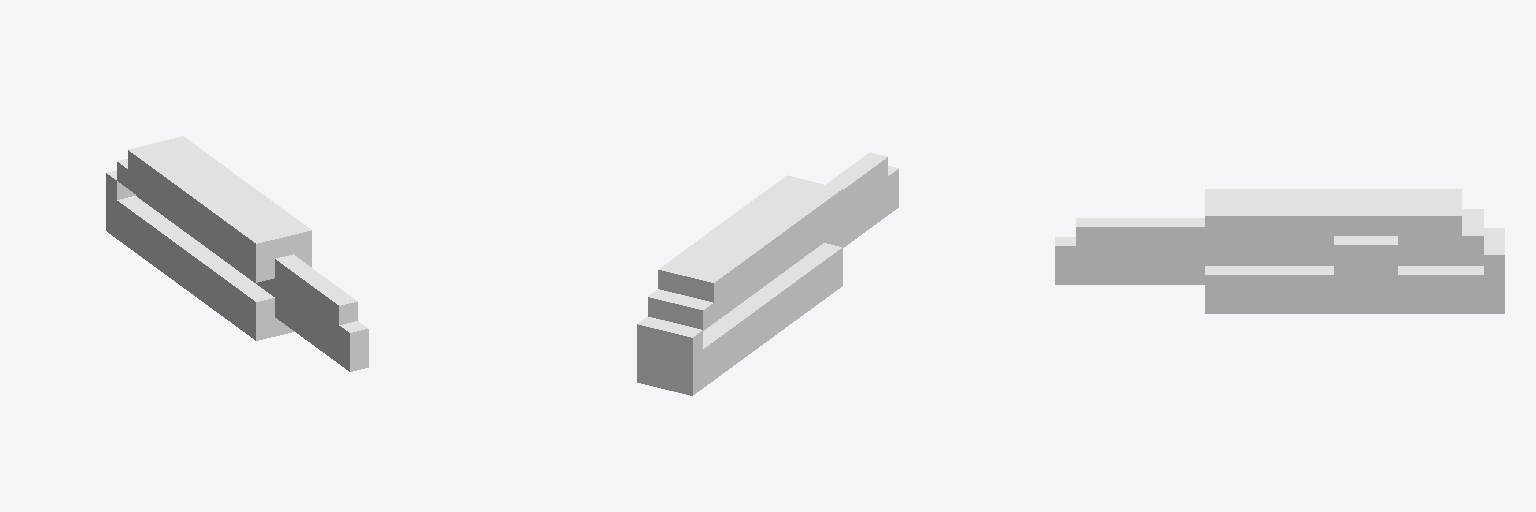
The model's file is knife.obj.
The picture shows the model from 3 angles: view 1: azimuth 30°, elevation 25°; view 2: azimuth 150°, elevation 25°; view 3: azimuth 270°, elevation 25°; orthographic projection.
Bounding box in the file's own units: 4 × 5 × 21.